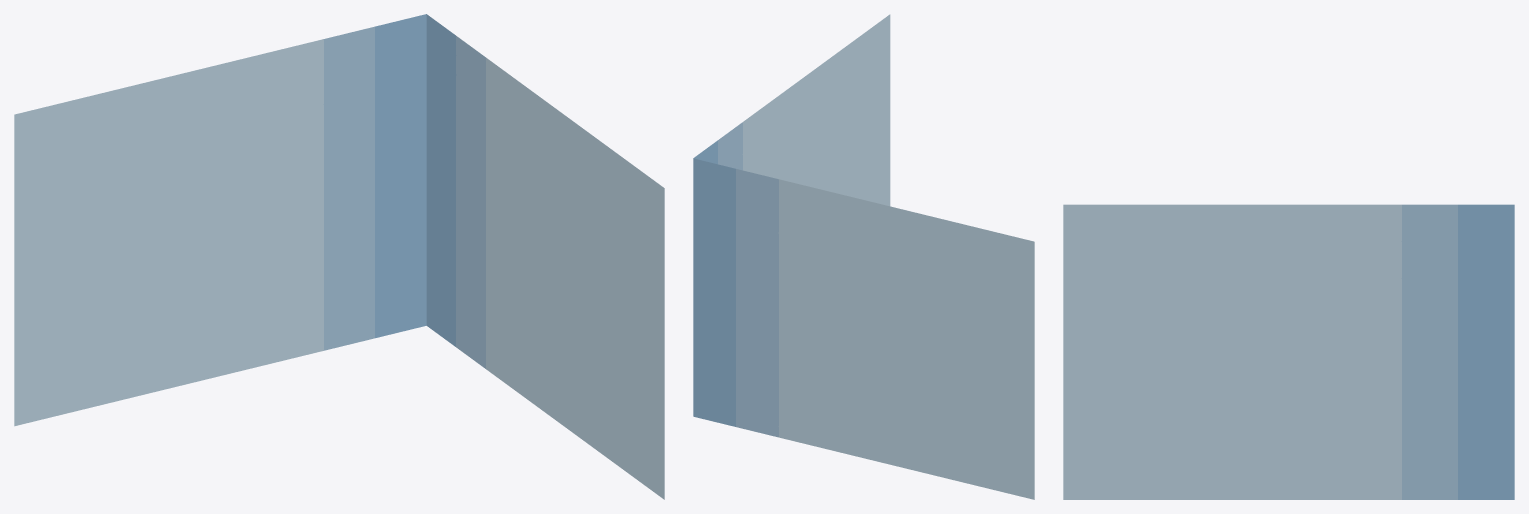
The picture shows the model from 3 angles, left to right: view 1: azimuth 30°, elevation 25°; view 2: azimuth 150°, elevation 25°; view 3: azimuth 270°, elevation 25°; orthographic projection. The views are drawn at different scales.
Size of the model in its own units: 0.5 by 0.3613 by 0.5.
1 material, 1 textured.
